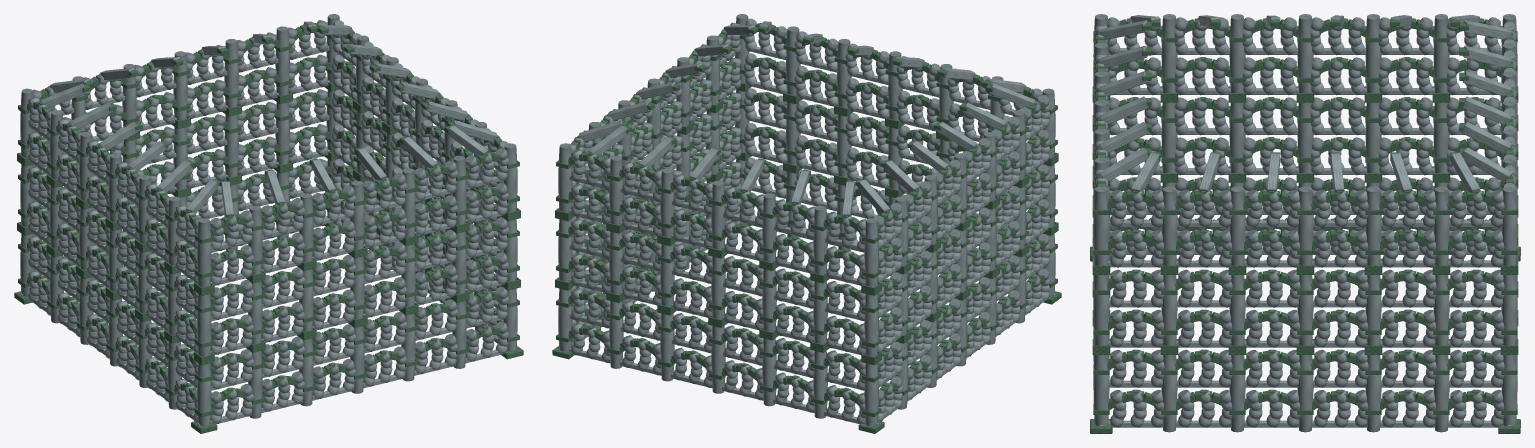
The picture shows the model from 3 angles, left to right: view 1: azimuth 30°, elevation 25°; view 2: azimuth 150°, elevation 25°; view 3: azimuth 270°, elevation 25°; orthographic projection. The views are drawn at different scales.
Visible parts, largest first — view 1: Tier 2 side 0 post 0, Tier 1 side 0 post 0, Tier 0 side 0 post 0, Tier 2 side 2 post 1, Tier 2 side 2 post 2, Tier 2 side 2 post 3, Tier 1 side 2 post 1, Tier 1 side 2 post 2, Tier 2 side 0 post 1, Tier 2 side 0 post 2, Tier 2 side 0 post 3, Tier 2 side 1 post 0 (+37 smaller); view 2: Tier 2 side 3 post 0, Tier 2 side 2 post 0, Tier 2 side 2 post 2, Tier 2 side 2 post 4, Tier 2 side 2 post 5, Tier 2 side 2 post 3, Tier 2 side 2 post 1, Tier 0 side 3 post 0, Tier 1 side 3 post 0, Tier 0 side 2 post 4, Tier 0 side 2 post 5, Tier 0 side 2 post 2 (+20 smaller); view 3: Tier 2 side 1 post 0, Tier 2 side 2 post 0, Tier 2 side 1 post 1, Tier 2 side 3 post 1, Tier 2 side 1 post 5, Tier 2 side 1 post 2, Tier 2 side 1 post 3, Tier 2 side 1 post 4, Tier 2 side 3 post 2, Tier 2 side 3 post 4, Tier 2 side 3 post 5, Tier 2 side 3 post 3 (+37 smaller).
Boxes of the visible parts, x1=… form: Tier 2 side 0 post 0: x1=197, y1=218, x2=211, y2=287; Tier 1 side 0 post 0: x1=197, y1=294, x2=211, y2=356; Tier 0 side 0 post 0: x1=197, y1=363, x2=211, y2=425; Tier 2 side 2 post 1: x1=275, y1=26, x2=289, y2=95; Tier 2 side 2 post 2: x1=224, y1=39, x2=238, y2=108; Tier 2 side 2 post 3: x1=173, y1=51, x2=187, y2=120; Tier 1 side 2 post 1: x1=275, y1=102, x2=289, y2=165; Tier 1 side 2 post 2: x1=224, y1=114, x2=238, y2=177; Tier 2 side 0 post 1: x1=248, y1=205, x2=262, y2=274; Tier 2 side 0 post 2: x1=299, y1=193, x2=313, y2=262; Tier 2 side 0 post 3: x1=350, y1=180, x2=364, y2=249; Tier 2 side 1 post 0: x1=503, y1=143, x2=517, y2=212; Tier 2 side 3 post 0: x1=864, y1=218, x2=878, y2=287; Tier 2 side 2 post 0: x1=558, y1=143, x2=572, y2=212; Tier 2 side 2 post 2: x1=660, y1=168, x2=674, y2=237; Tier 2 side 2 post 4: x1=762, y1=193, x2=776, y2=262; Tier 2 side 2 post 5: x1=813, y1=205, x2=827, y2=274; Tier 2 side 2 post 3: x1=711, y1=180, x2=725, y2=249; Tier 2 side 2 post 1: x1=609, y1=156, x2=623, y2=225; Tier 0 side 3 post 0: x1=864, y1=363, x2=878, y2=425; Tier 1 side 3 post 0: x1=864, y1=294, x2=878, y2=356; Tier 0 side 2 post 4: x1=762, y1=338, x2=776, y2=406; Tier 0 side 2 post 5: x1=813, y1=351, x2=827, y2=418; Tier 0 side 2 post 2: x1=660, y1=313, x2=674, y2=381; Tier 2 side 1 post 0: x1=1093, y1=186, x2=1109, y2=265; Tier 2 side 2 post 0: x1=1501, y1=186, x2=1517, y2=265; Tier 2 side 1 post 1: x1=1161, y1=186, x2=1177, y2=265; Tier 2 side 3 post 1: x1=1433, y1=14, x2=1449, y2=92; Tier 2 side 1 post 5: x1=1433, y1=186, x2=1449, y2=265; Tier 2 side 1 post 2: x1=1229, y1=186, x2=1245, y2=265; Tier 2 side 1 post 3: x1=1297, y1=186, x2=1313, y2=265; Tier 2 side 1 post 4: x1=1365, y1=186, x2=1381, y2=265; Tier 2 side 3 post 2: x1=1365, y1=14, x2=1381, y2=92; Tier 2 side 3 post 4: x1=1229, y1=14, x2=1245, y2=92; Tier 2 side 3 post 5: x1=1161, y1=14, x2=1177, y2=92; Tier 2 side 3 post 3: x1=1297, y1=14, x2=1313, y2=92.
Bounding box in the file's own units: 2.85 × 1.88 × 2.85.
Materials: 2 (2 with a texture image).
